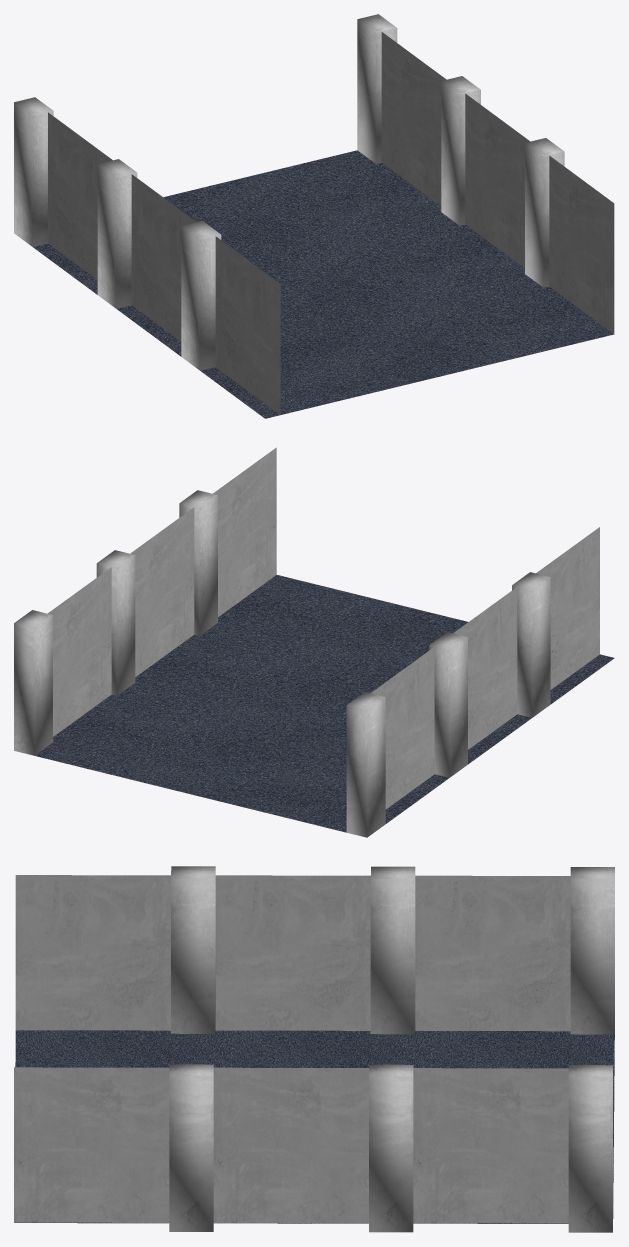
File: Stageparts1.fbx
The picture shows the model from 3 angles, top to bottom: view 1: azimuth 30°, elevation 25°; view 2: azimuth 150°, elevation 25°; view 3: azimuth 270°, elevation 25°; orthographic projection. The views are drawn at different scales.
Visible parts, largest first — view 1: Plane.015; view 2: Plane.015; view 3: Plane.015.
Part boxes in pixels (left/top/right/bottom): Plane.015: left=14, top=14, right=614, bottom=418; Plane.015: left=14, top=447, right=614, bottom=837; Plane.015: left=14, top=866, right=614, bottom=1232.
Bounding box in the file's own units: 20.5 × 7.03 × 24.65.
Materials: 2 (2 with a texture image).
